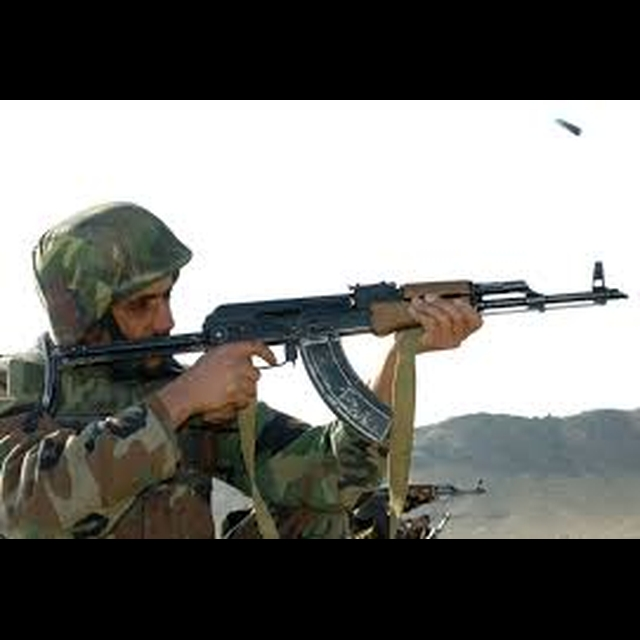AK47: (189, 235, 631, 441)
